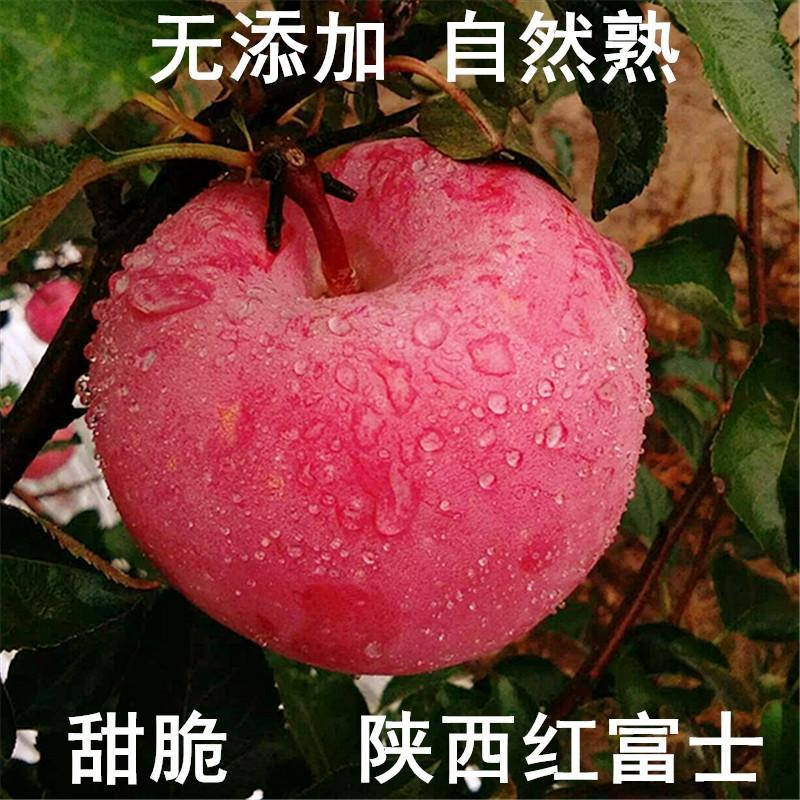apple: (85, 123, 666, 672)
